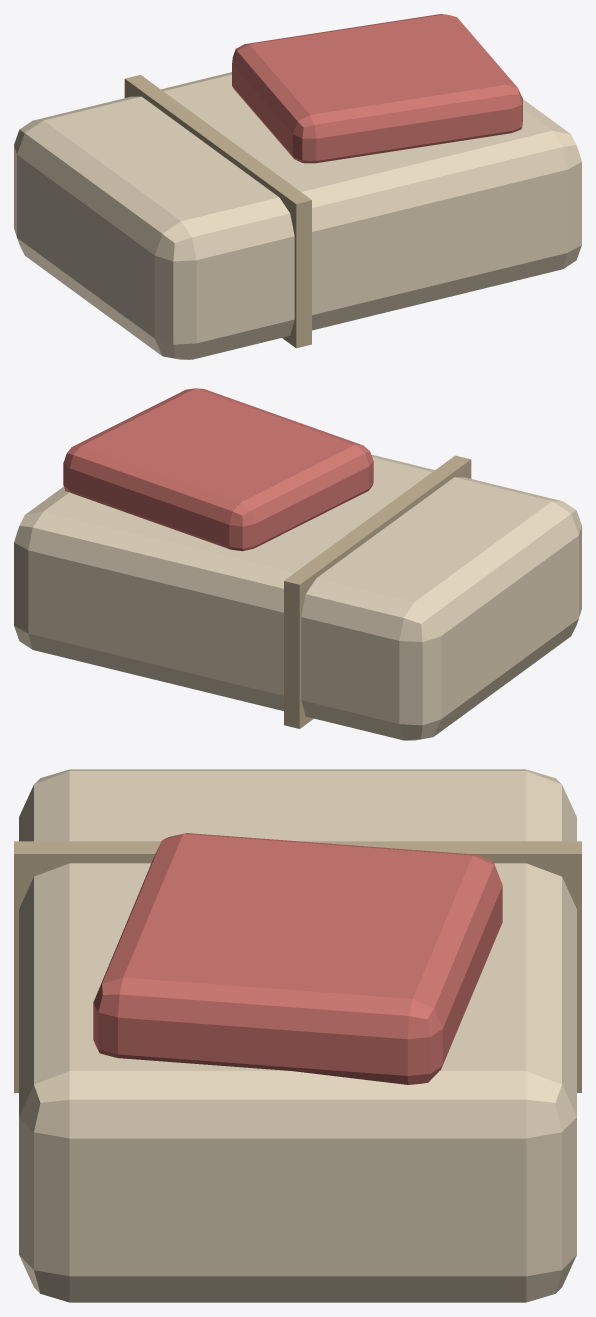
File: Loot_RawFood.fbx
The picture shows the model from 3 angles, top to bottom: view 1: azimuth 30°, elevation 25°; view 2: azimuth 150°, elevation 25°; view 3: azimuth 270°, elevation 25°; orthographic projection. The views are drawn at different scales.
Visible parts, largest first — view 1: Loot_RawFood; view 2: Loot_RawFood; view 3: Loot_RawFood.
Part boxes in pixels (x1=…): Loot_RawFood: x1=14, y1=14, x2=581, y2=359; Loot_RawFood: x1=14, y1=388, x2=581, y2=740; Loot_RawFood: x1=14, y1=769, x2=581, y2=1302.
Bounding box in the file's own units: 0.16 × 0.065 × 0.112.
